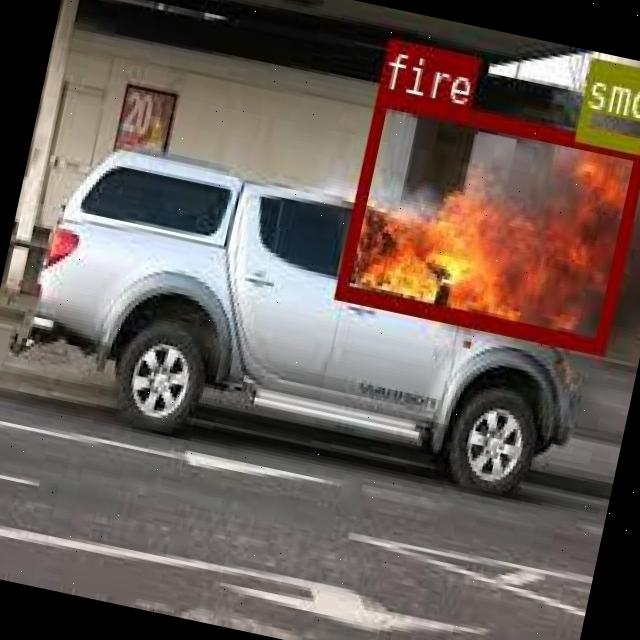fire: (333, 85, 640, 350)
smoke: (574, 56, 640, 158)
